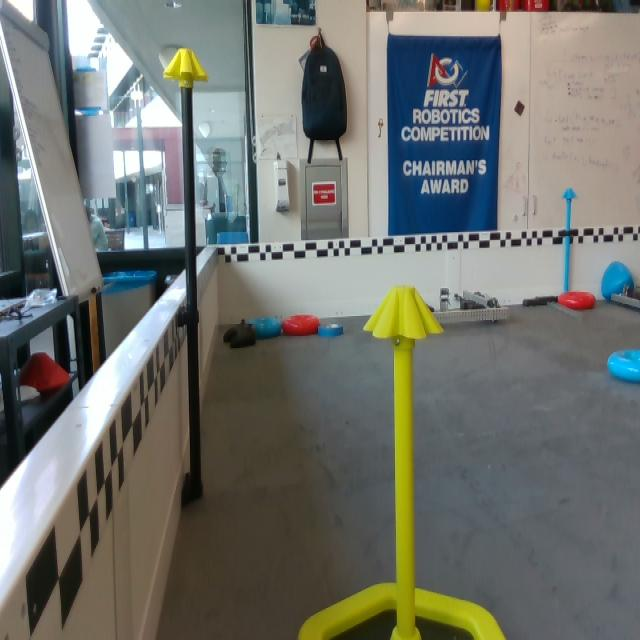Blue-Ring: (607, 350, 639, 381), (247, 318, 281, 339), (319, 320, 346, 340)
Mobile-Goal: (297, 285, 508, 639)
Red-Ring: (282, 314, 321, 336), (559, 292, 597, 311)
Yellow-Stake-Head: (363, 285, 444, 340), (162, 47, 208, 83)
zblue-Stake-Head: (561, 188, 578, 199)
